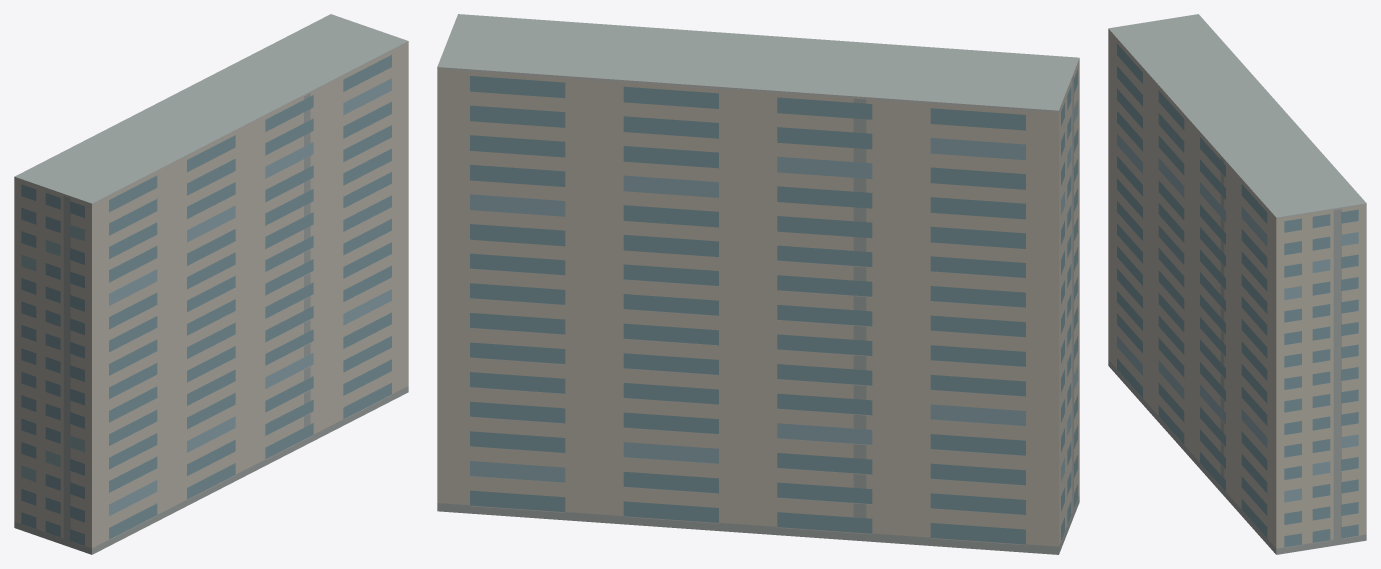
Rendered from residential-e5b4bfdf-cc1c-49e7-bca4-ab5c26fca7be.glb.
The picture shows the model from 3 angles, left to right: view 1: azimuth 30°, elevation 25°; view 2: azimuth 150°, elevation 25°; view 3: azimuth 270°, elevation 25°; orthographic projection. The views are drawn at different scales.
Visible parts, largest first — view 1: residential-e5b4bfdf-cc1c-49e7-bca4-ab5c26fca7be.tmp; view 2: residential-e5b4bfdf-cc1c-49e7-bca4-ab5c26fca7be.tmp; view 3: residential-e5b4bfdf-cc1c-49e7-bca4-ab5c26fca7be.tmp.
Boxes of the visible parts, x1,y1,x2,y2 form: residential-e5b4bfdf-cc1c-49e7-bca4-ab5c26fca7be.tmp: [14, 14, 408, 554]; residential-e5b4bfdf-cc1c-49e7-bca4-ab5c26fca7be.tmp: [437, 14, 1079, 554]; residential-e5b4bfdf-cc1c-49e7-bca4-ab5c26fca7be.tmp: [1108, 14, 1366, 554].
Bounding box in the file's own units: 59.24 × 45.75 × 31.78.
